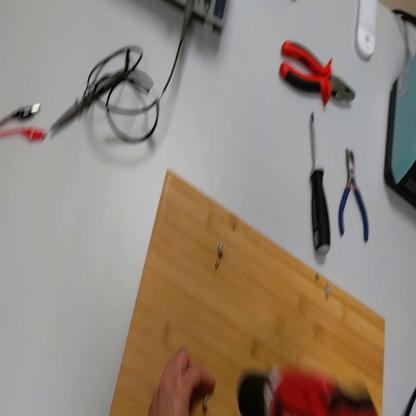electric screwdriver: (238, 365, 379, 414)
hand: (148, 345, 216, 413)
oscilloscope: (164, 1, 232, 35)
oscilloscope probe tip: (50, 64, 153, 135)
pliers: (279, 39, 357, 108), (338, 146, 370, 246)
screwdriver-: (310, 115, 333, 260)
welder station: (384, 55, 416, 212)
working area: (110, 164, 388, 415)
